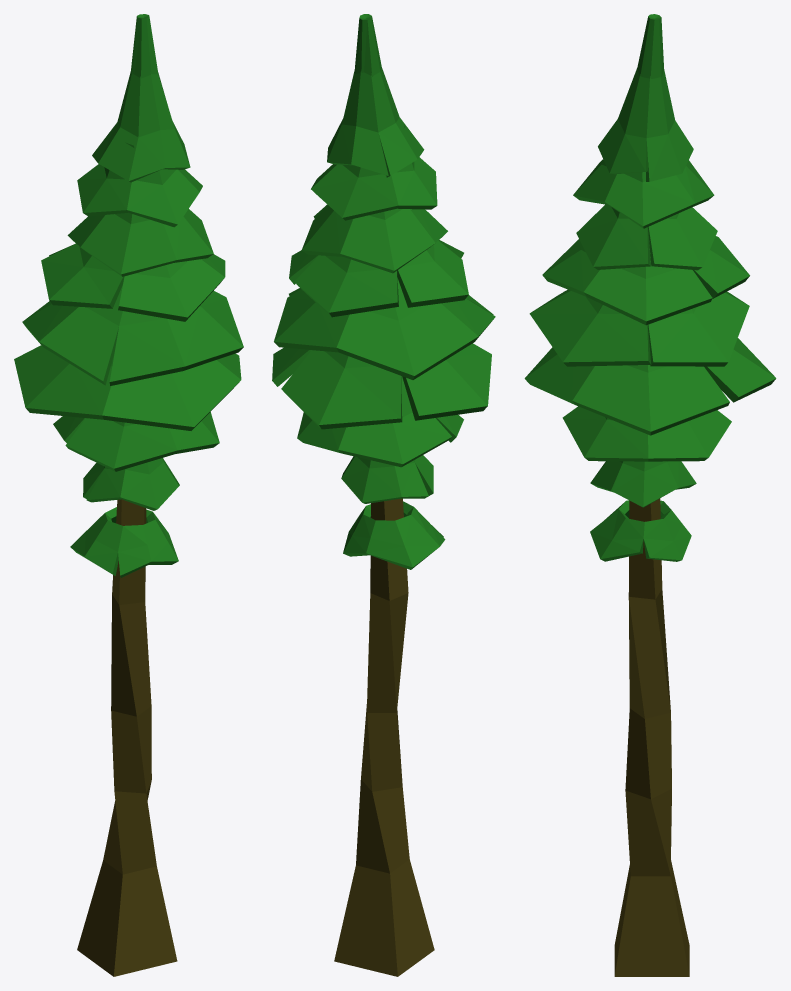
Rendered from TallTree1.fbx.
3 views of the same model, side by side, from view 1: azimuth 30°, elevation 25°; view 2: azimuth 150°, elevation 25°; view 3: azimuth 270°, elevation 25° (orthographic).
Visible parts, largest first — view 1: Cube; view 2: Cube; view 3: Cube.
Part boxes in pixels (bbox=[...]): Cube: bbox=[14, 14, 243, 976]; Cube: bbox=[272, 14, 495, 976]; Cube: bbox=[524, 14, 776, 976].
Size of the model in its own units: 615 by 2568 by 615.
